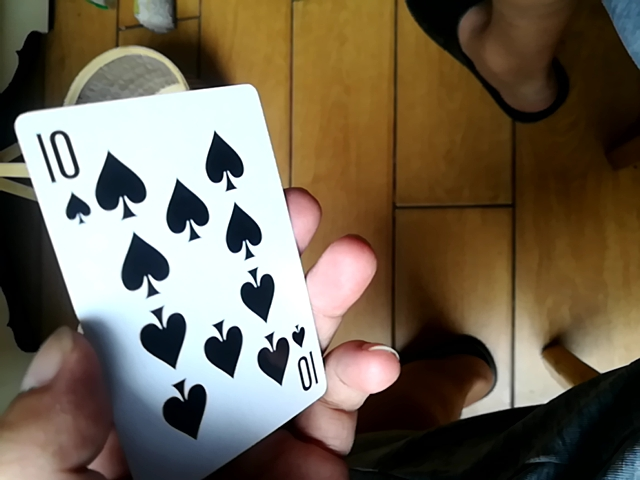ht 10: (16, 79, 337, 474)
